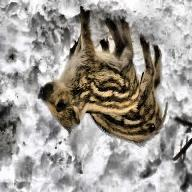boar: (41, 1, 152, 124), (88, 36, 190, 145)
